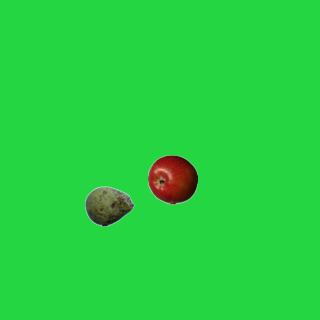Apple Braeburn: (147, 154, 197, 204)
Pear Stone: (84, 181, 134, 231)
